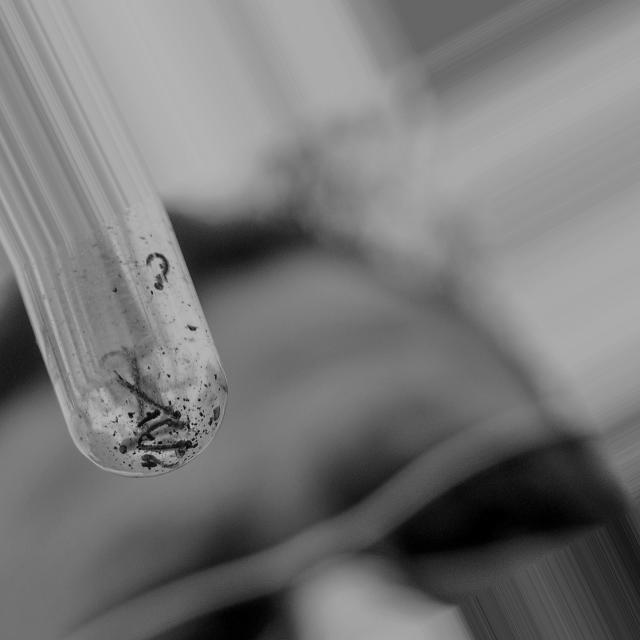larvas: (138, 391, 183, 416), (146, 251, 170, 287), (124, 346, 146, 384), (138, 440, 192, 452), (140, 452, 178, 468), (119, 434, 138, 458), (96, 349, 124, 363), (149, 419, 173, 435), (135, 408, 159, 422)
